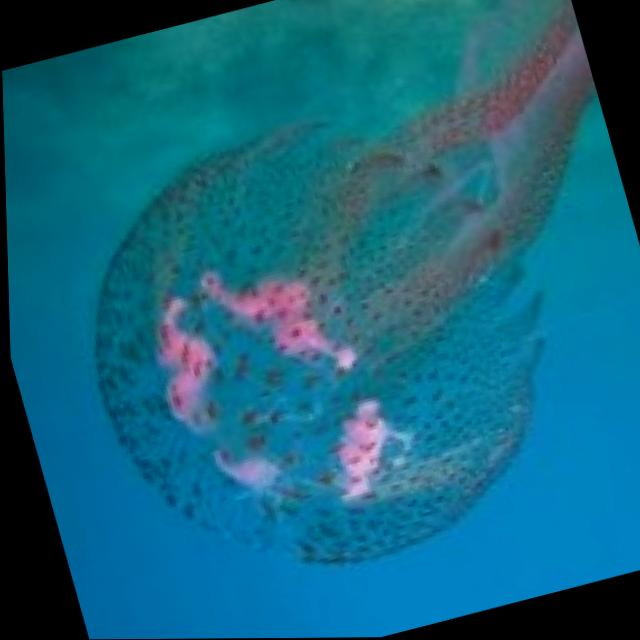Box-jellyfish: (1, 0, 640, 621)
